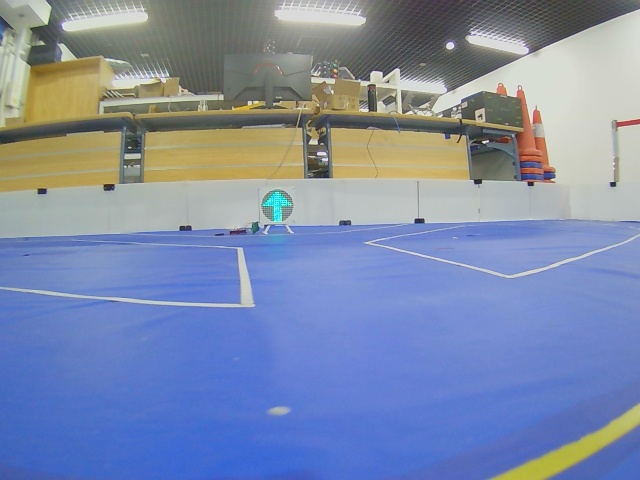straight_green: (261, 189, 294, 223)
